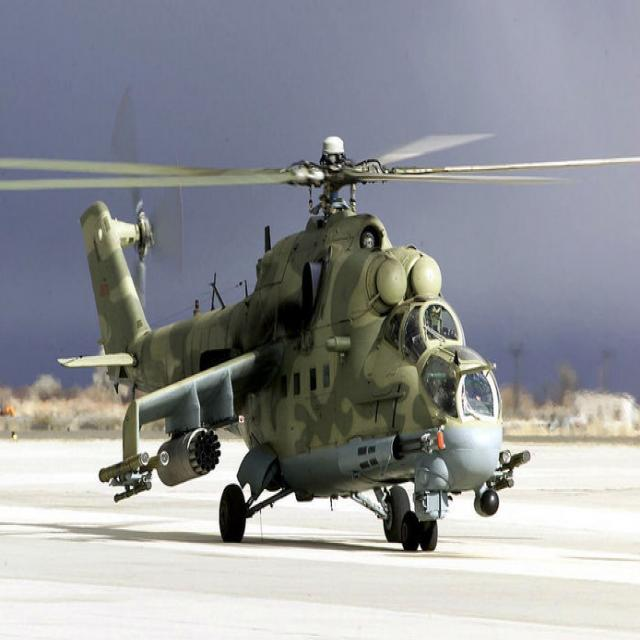helicopter: (1, 141, 638, 551)
